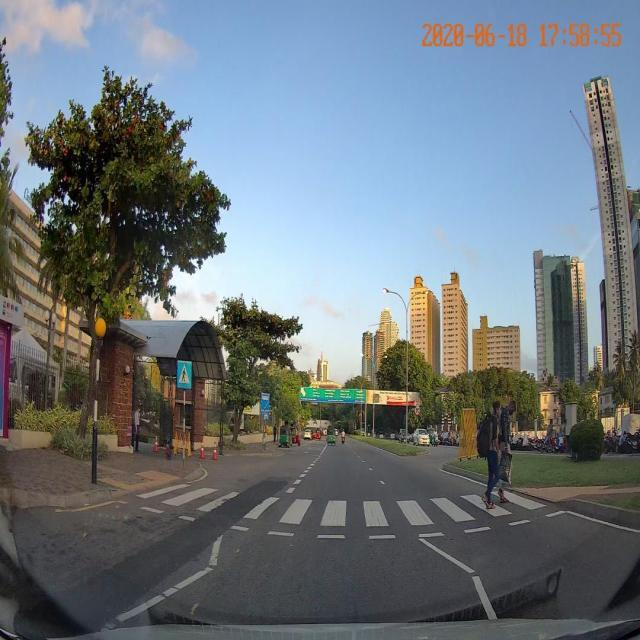Crosswalk: (133, 483, 548, 527)
